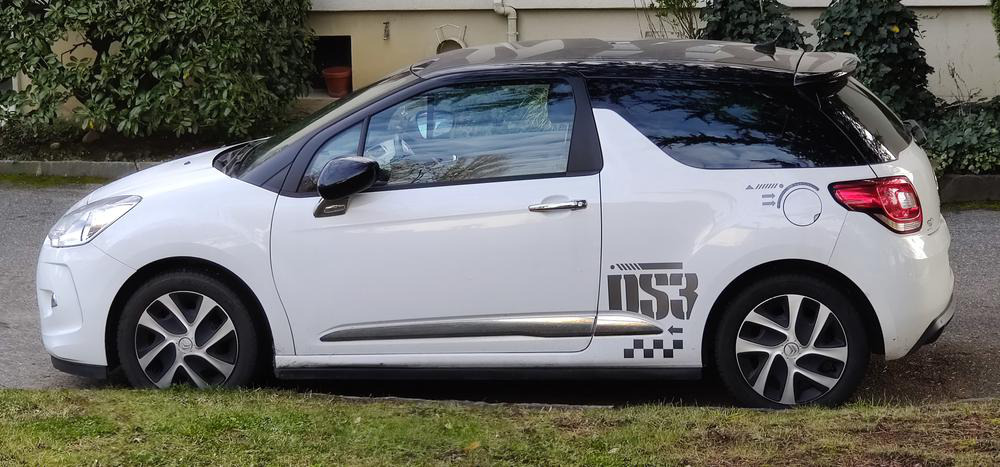mobil: (30, 31, 964, 415)
